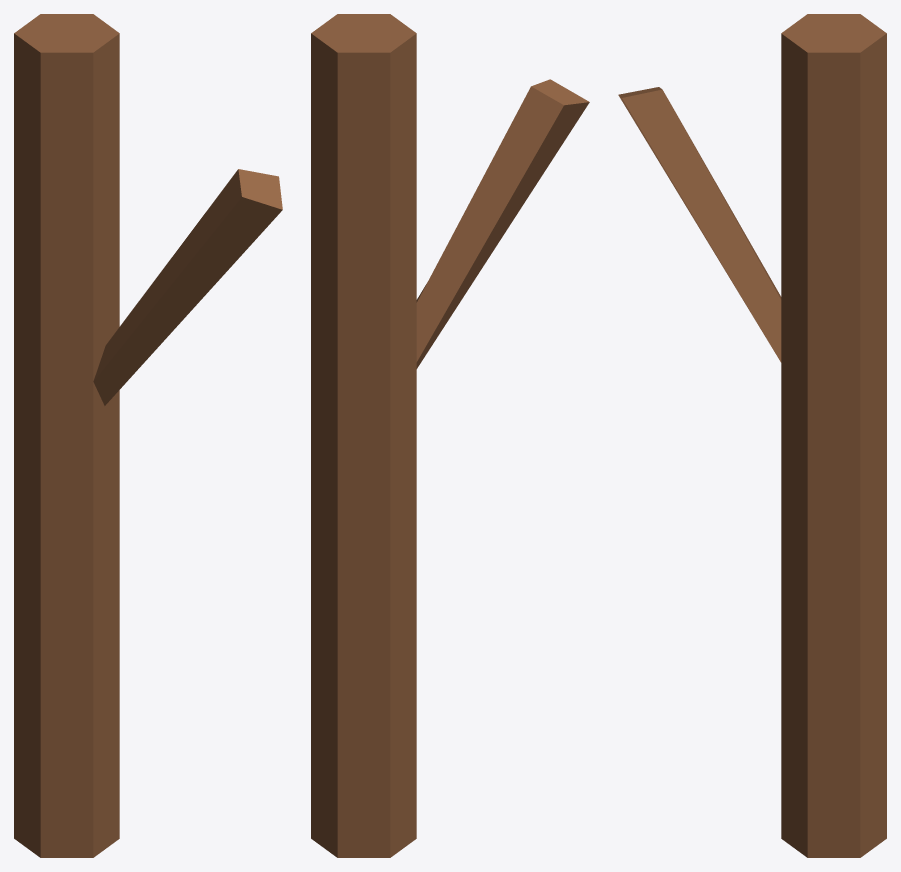
Rendered from tree-winter-trunk-005.glb.
3 views of the same model, side by side, from view 1: azimuth 90°, elevation 25°; view 2: azimuth 150°, elevation 25°; view 3: azimuth 270°, elevation 25° (orthographic).
Parts seen in each view (by area): view 1: Circle.041_123; view 2: Circle.041_123; view 3: Circle.041_123.
Boxes of the visible parts, x1=… form: Circle.041_123: x1=14, y1=14, x2=282, y2=857; Circle.041_123: x1=311, y1=14, x2=589, y2=857; Circle.041_123: x1=618, y1=14, x2=886, y2=857.
Bounding box in the file's own units: 0.2561 × 1.25 × 0.3782.
